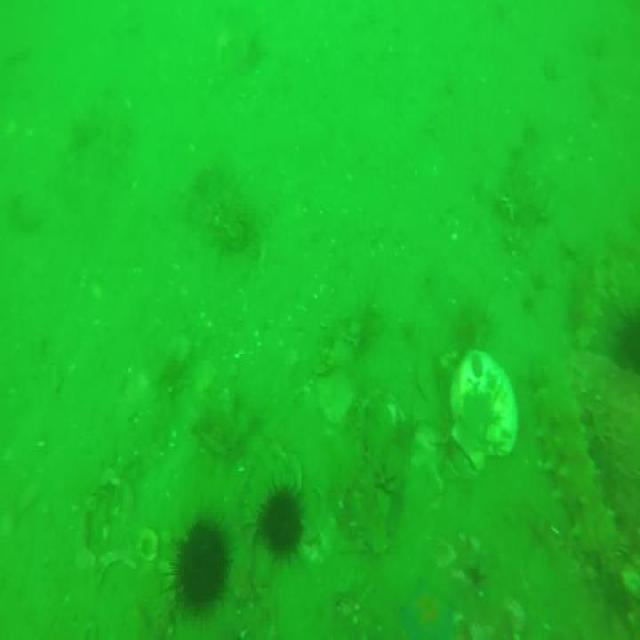echinus: (162, 520, 239, 630), (258, 487, 304, 561), (615, 292, 640, 382)
holothurian: (536, 341, 640, 640), (578, 215, 610, 354)
scallop: (443, 349, 518, 474), (313, 370, 355, 422)
starfish: (402, 575, 460, 640)
